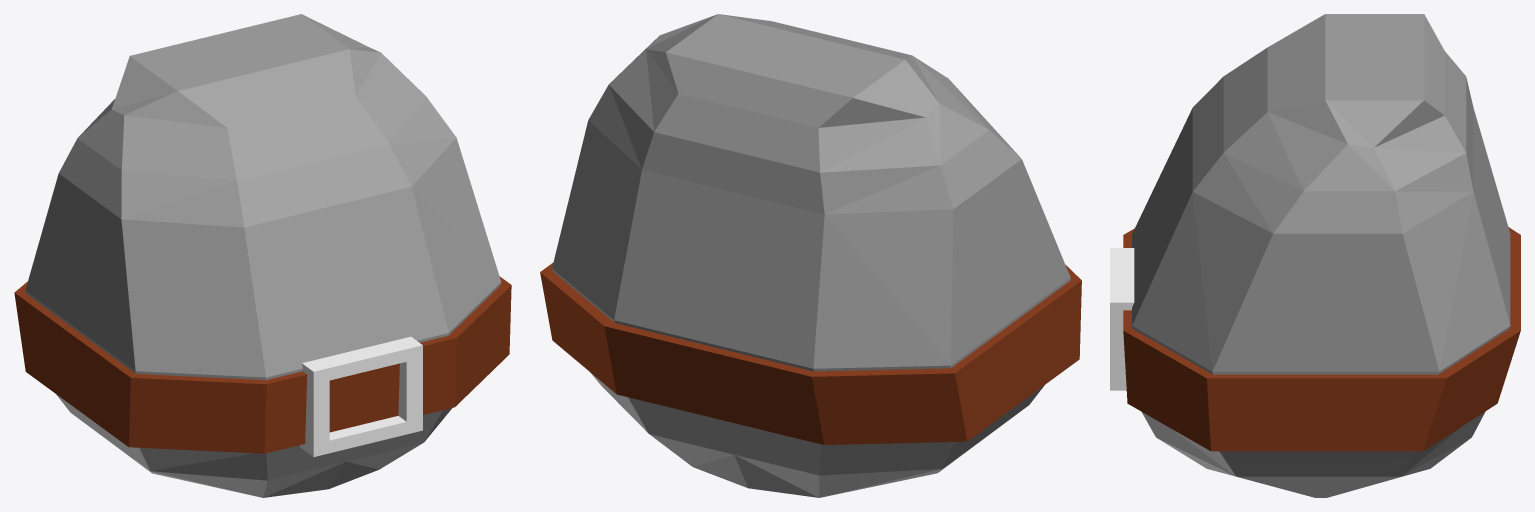
Rendered from chest.obj.
3 renders of one model, left to right at view 1: azimuth 30°, elevation 25°; view 2: azimuth 150°, elevation 25°; view 3: azimuth 270°, elevation 25°, orthographic. The views are drawn at different scales.
Parts seen in each view (by area): view 1: 胴_立方体.004; view 2: 胴_立方体.004; view 3: 胴_立方体.004.
Part boxes in pixels (<box>): 胴_立方体.004: <box>14,14,511,497</box>; 胴_立方体.004: <box>540,14,1081,497</box>; 胴_立方体.004: <box>1110,14,1520,497</box>.
Bounding box in the file's own units: 2.09 × 1.95 × 1.9.
Materials: 1 (1 with a texture image).
